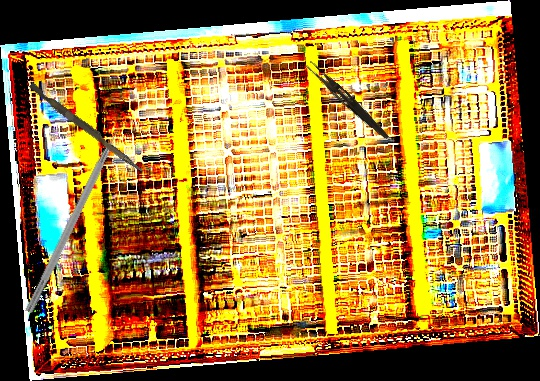Chopper: (24, 113, 139, 319)
Dressing Forceps: (302, 60, 394, 141)
Pusher: (26, 82, 148, 174)
